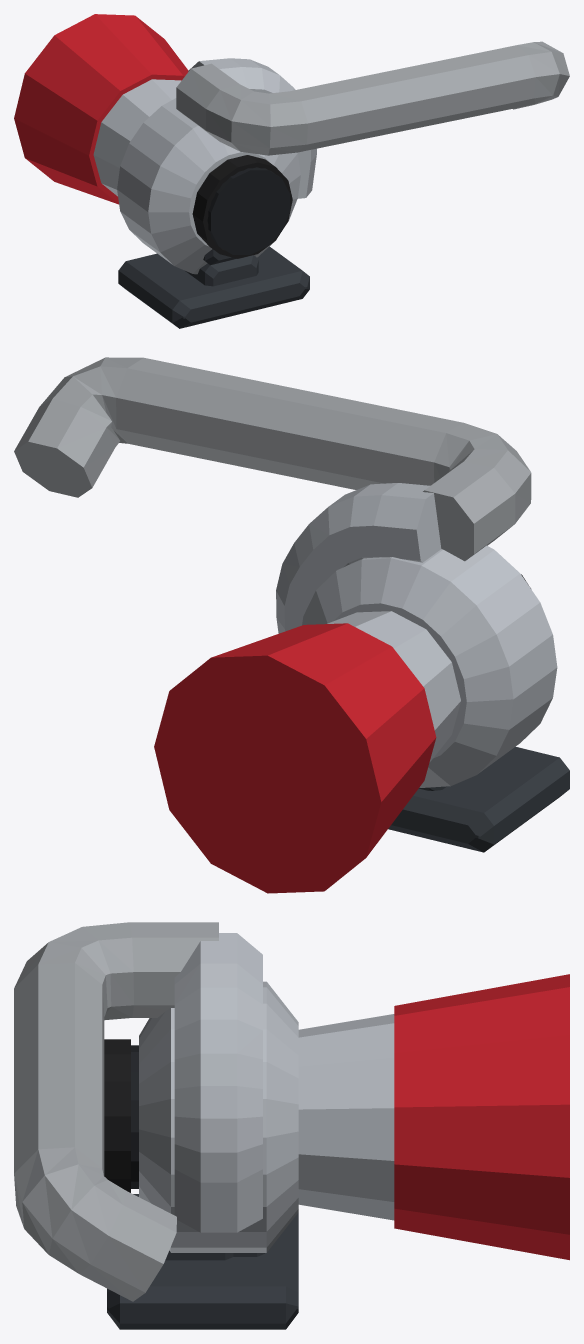
File: kaze_gt_supercharger.glb
The picture shows the model from 3 angles, top to bottom: view 1: azimuth 30°, elevation 25°; view 2: azimuth 150°, elevation 25°; view 3: azimuth 270°, elevation 25°; orthographic projection. The views are drawn at different scales.
Parts seen in each view (by area): view 1: model; view 2: model; view 3: model.
Boxes of the visible parts, x1,y1,x2,y2 form: model: [14, 14, 569, 328]; model: [14, 357, 569, 893]; model: [14, 922, 569, 1329].
Bounding box in the file's own units: 0.4379 × 0.2405 × 0.3484.
Materials: 3 (1 with a texture image).
